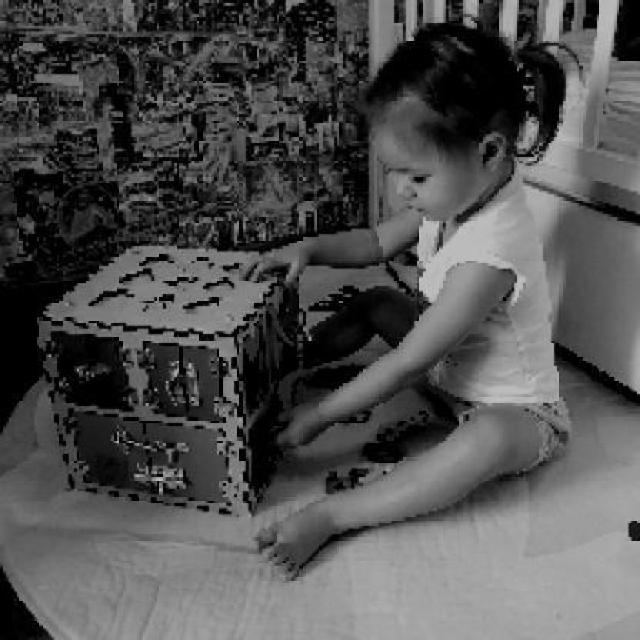child: (238, 17, 571, 580)
